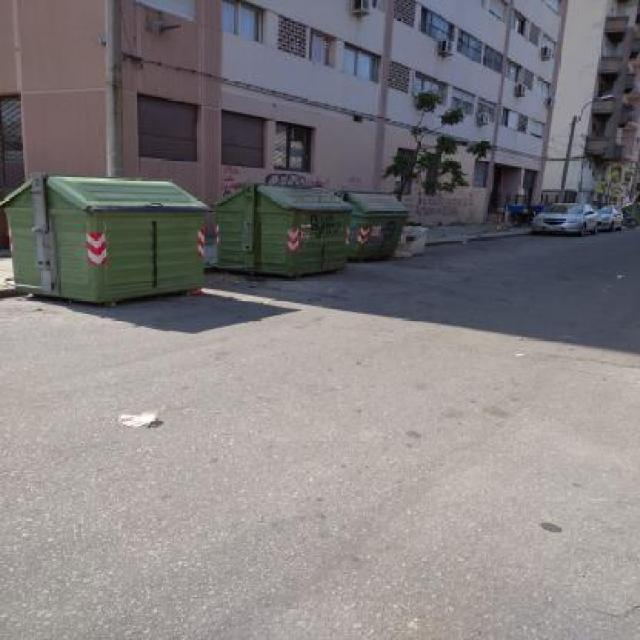garbage: (108, 400, 182, 451), (394, 217, 432, 264)
